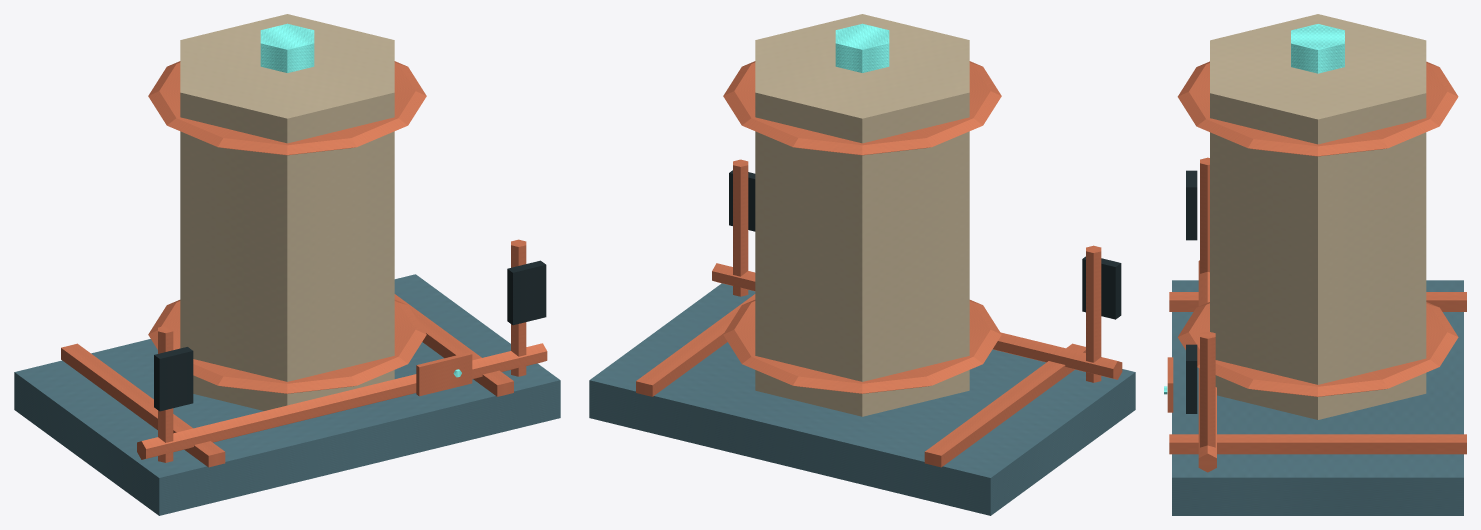
File: atlas100-s042-a06.lod1.glb
3 renders of one model, left to right at view 1: azimuth 30°, elevation 25°; view 2: azimuth 150°, elevation 25°; view 3: azimuth 270°, elevation 25°, orthographic.
Parts seen in each view (by area): view 1: atlas100-s042-a06:part-003, atlas100-s042-a06:part-000, atlas100-s042-a06:part-005, atlas100-s042-a06:part-012, atlas100-s042-a06:part-004, atlas100-s042-a06:part-001, atlas100-s042-a06:part-006, atlas100-s042-a06:part-011, atlas100-s042-a06:part-009, atlas100-s042-a06:part-002, atlas100-s042-a06:part-013, atlas100-s042-a06:part-010 (+1 smaller); view 2: atlas100-s042-a06:part-003, atlas100-s042-a06:part-000, atlas100-s042-a06:part-005, atlas100-s042-a06:part-004, atlas100-s042-a06:part-001, atlas100-s042-a06:part-012, atlas100-s042-a06:part-002, atlas100-s042-a06:part-006, atlas100-s042-a06:part-010, atlas100-s042-a06:part-008, atlas100-s042-a06:part-009, atlas100-s042-a06:part-011; view 3: atlas100-s042-a06:part-003, atlas100-s042-a06:part-000, atlas100-s042-a06:part-005, atlas100-s042-a06:part-004, atlas100-s042-a06:part-002, atlas100-s042-a06:part-006, atlas100-s042-a06:part-010, atlas100-s042-a06:part-001, atlas100-s042-a06:part-012, atlas100-s042-a06:part-008, atlas100-s042-a06:part-009, atlas100-s042-a06:part-011 (+1 smaller).
Part boxes in pixels (<box>): atlas100-s042-a06:part-003: <box>180,14,394,410</box>; atlas100-s042-a06:part-000: <box>14,274,560,515</box>; atlas100-s042-a06:part-005: <box>148,61,426,155</box>; atlas100-s042-a06:part-012: <box>137,343,547,459</box>; atlas100-s042-a06:part-004: <box>148,300,426,393</box>; atlas100-s042-a06:part-001: <box>61,343,225,467</box>; atlas100-s042-a06:part-006: <box>260,23,314,72</box>; atlas100-s042-a06:part-011: <box>507,260,546,325</box>; atlas100-s042-a06:part-009: <box>154,347,193,411</box>; atlas100-s042-a06:part-002: <box>394,294,513,396</box>; atlas100-s042-a06:part-013: <box>416,352,472,396</box>; atlas100-s042-a06:part-010: <box>511,239,526,376</box>; atlas100-s042-a06:part-003: <box>755,14,969,416</box>; atlas100-s042-a06:part-000: <box>589,283,1135,515</box>; atlas100-s042-a06:part-005: <box>723,61,1001,155</box>; atlas100-s042-a06:part-004: <box>723,300,1001,393</box>; atlas100-s042-a06:part-001: <box>924,343,1085,467</box>; atlas100-s042-a06:part-012: <box>712,263,1122,379</box>; atlas100-s042-a06:part-002: <box>636,294,755,396</box>; atlas100-s042-a06:part-006: <box>835,23,889,72</box>; atlas100-s042-a06:part-010: <box>733,159,748,296</box>; atlas100-s042-a06:part-008: <box>1086,245,1101,382</box>; atlas100-s042-a06:part-009: <box>1082,256,1121,319</box>; atlas100-s042-a06:part-011: <box>729,170,755,231</box>; atlas100-s042-a06:part-003: <box>1210,14,1426,419</box>; atlas100-s042-a06:part-000: <box>1172,280,1463,515</box>; atlas100-s042-a06:part-005: <box>1177,61,1458,156</box>; atlas100-s042-a06:part-004: <box>1177,302,1458,396</box>; atlas100-s042-a06:part-002: <box>1169,434,1466,454</box>; atlas100-s042-a06:part-006: <box>1291,24,1344,73</box>; atlas100-s042-a06:part-010: <box>1200,331,1215,447</box>; atlas100-s042-a06:part-001: <box>1169,292,1466,311</box>; atlas100-s042-a06:part-012: <box>1198,260,1216,472</box>; atlas100-s042-a06:part-008: <box>1200,157,1209,273</box>; atlas100-s042-a06:part-009: <box>1186,170,1197,240</box>; atlas100-s042-a06:part-011: <box>1186,344,1197,413</box>.
Size of the model in its own units: 2.88 by 2.59 by 1.87.
5 materials, 5 textured.
